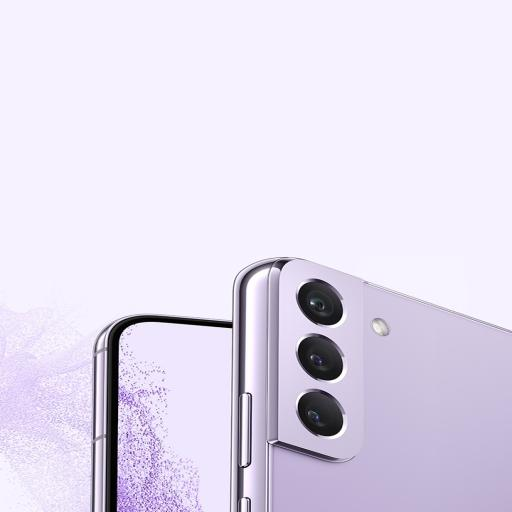phone: (245, 262, 511, 512)
